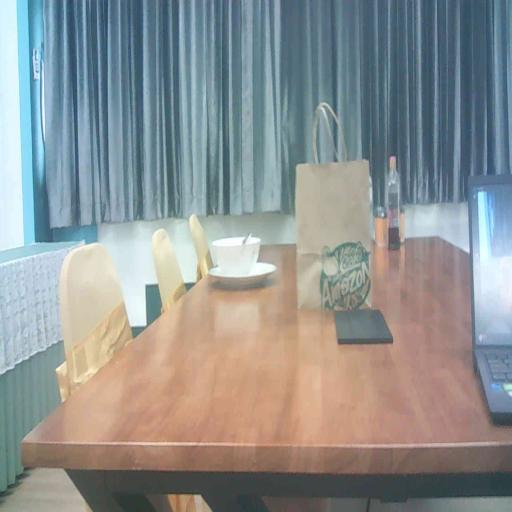bag: (294, 154, 376, 317)
